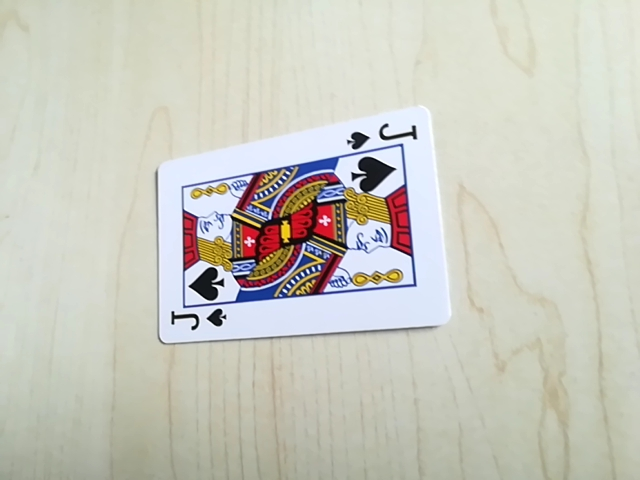ht j: (341, 121, 421, 153), (166, 302, 230, 338)
